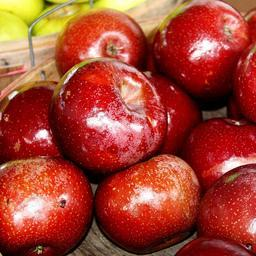apple: (48, 59, 166, 172), (93, 155, 201, 251), (154, 1, 253, 102), (1, 158, 93, 253), (54, 8, 148, 75), (1, 81, 67, 169), (181, 116, 256, 188), (194, 164, 256, 247)
